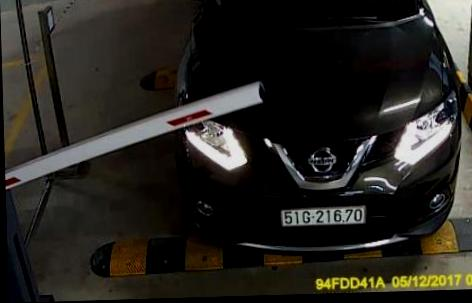License_Plate: (273, 200, 379, 234)
